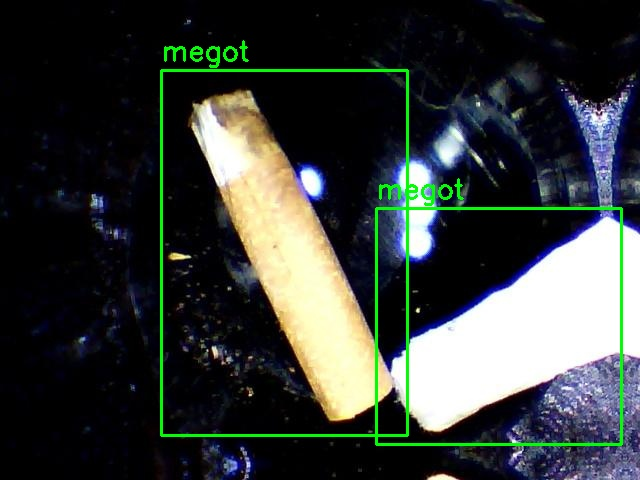megot: (161, 70, 407, 435), (376, 208, 621, 444)
